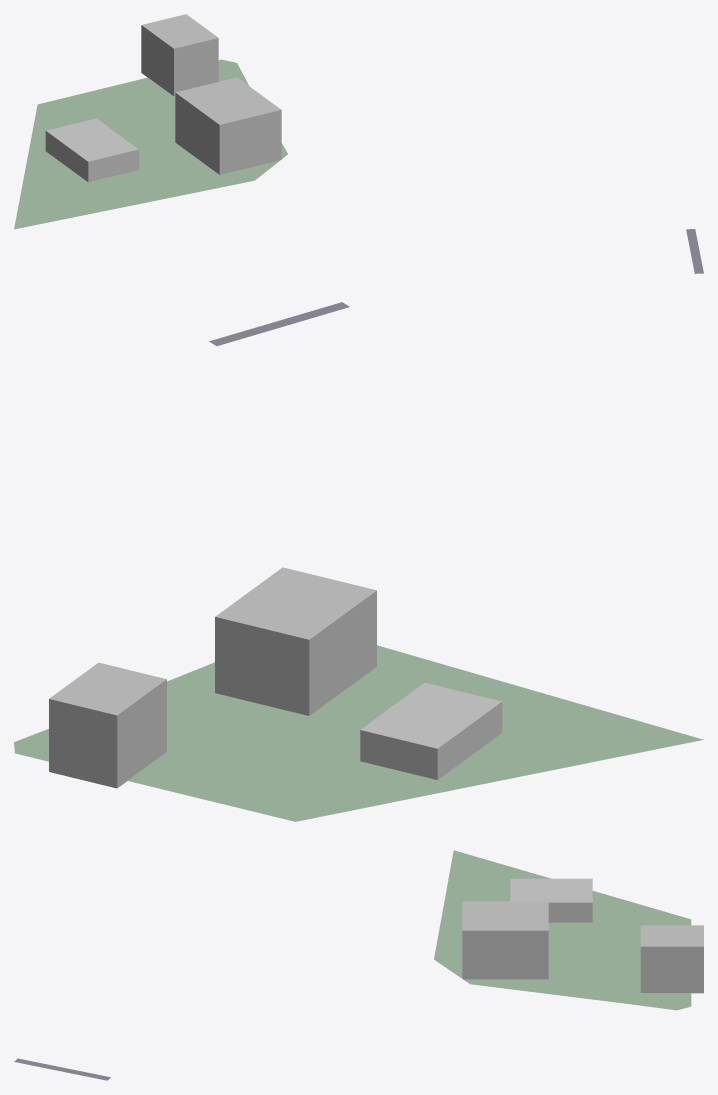
The model's file is 145_109_mid.glb.
3 views of the same model, one above another, from view 1: azimuth 30°, elevation 25°; view 2: azimuth 150°, elevation 25°; view 3: azimuth 270°, elevation 25° (orthographic). The views are drawn at different scales.
Bounding box in the file's own units: 440 × 42.08 × 538.
